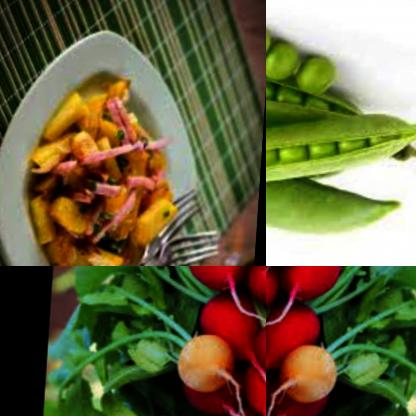peas: (266, 113, 416, 231), (266, 101, 416, 203), (266, 48, 382, 114), (266, 35, 308, 76), (297, 52, 340, 89), (266, 25, 276, 70)
potato: (27, 185, 183, 266), (45, 88, 121, 161)
rediska: (169, 324, 239, 402), (280, 335, 350, 413), (193, 289, 263, 365), (266, 299, 329, 375), (279, 266, 348, 306), (179, 383, 244, 416), (181, 266, 250, 296), (270, 393, 335, 416), (248, 310, 266, 381), (242, 367, 266, 416), (266, 266, 289, 310), (238, 266, 266, 301)
